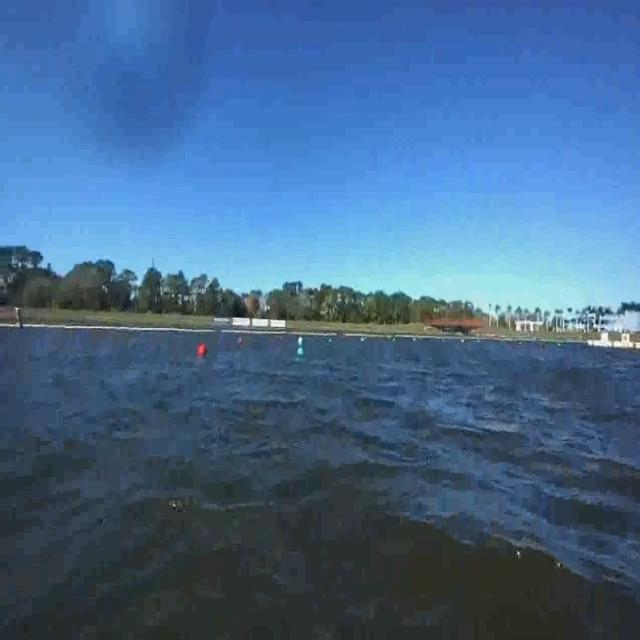green-buoy: (296, 337, 304, 360)
red-buoy: (198, 343, 208, 358)
